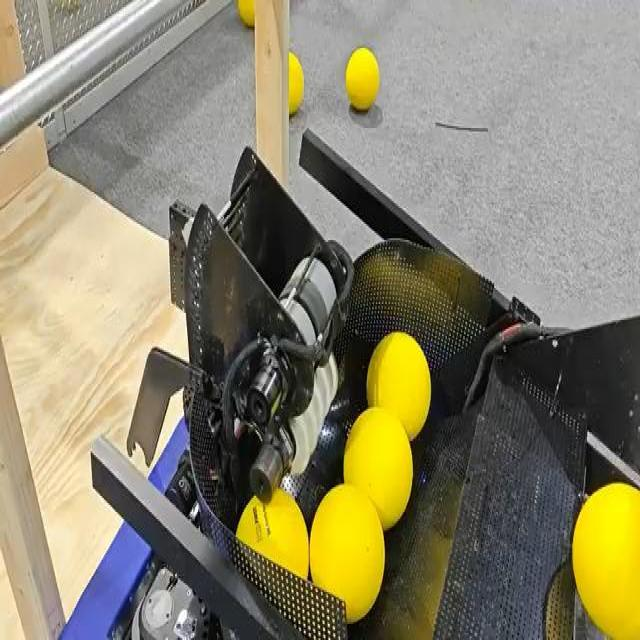Fuel: (309, 485, 386, 621), (572, 484, 639, 638), (310, 484, 384, 622), (343, 407, 412, 530), (237, 488, 309, 584), (366, 333, 430, 439), (236, 489, 308, 578), (345, 48, 379, 110), (345, 48, 379, 108), (288, 52, 304, 115), (288, 52, 303, 114), (237, 1, 255, 28), (237, 0, 254, 27)
